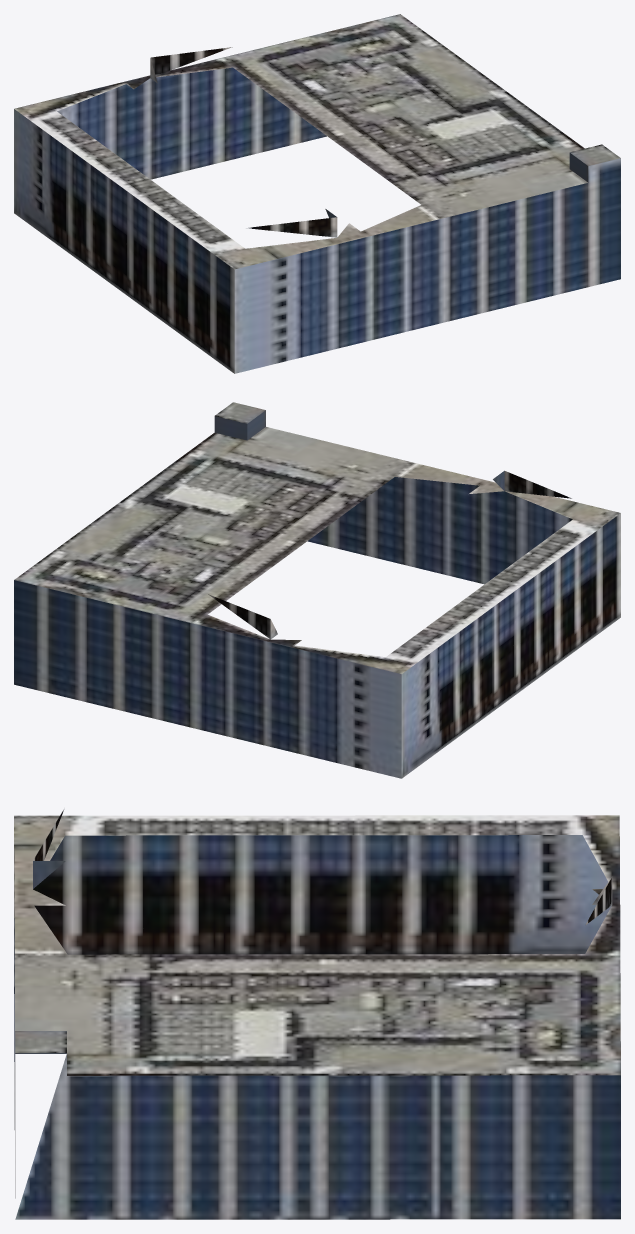
3 views of the same model, one above another, from view 1: azimuth 30°, elevation 25°; view 2: azimuth 150°, elevation 25°; view 3: azimuth 270°, elevation 25° (orthographic). The views are drawn at different scales.
Parts seen in each view (by area): view 1: b111; view 2: b111; view 3: b111.
Part boxes in pixels (left/top/right/bottom): b111: left=14, top=14, right=620, bottom=373; b111: left=14, top=402, right=620, bottom=778; b111: left=14, top=808, right=620, bottom=1219.
Bounding box in the file's own units: 84.53 × 26.06 × 83.2.
1 material, 1 textured.
